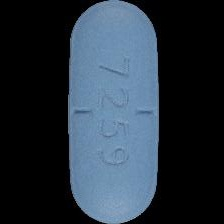0093-7259: (0, 0, 224, 224)
